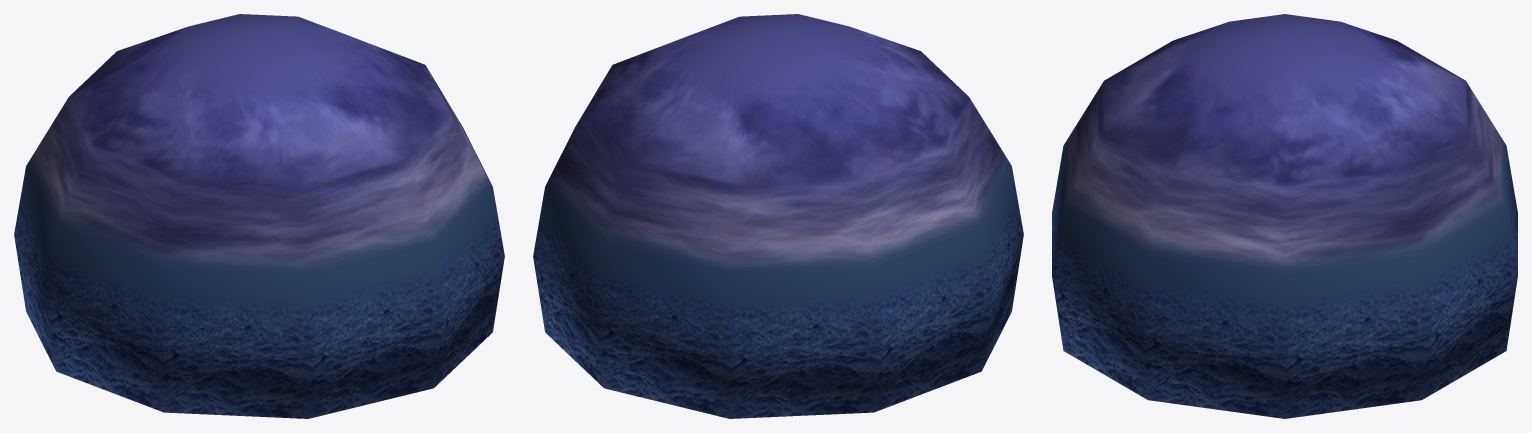
Rendered from roof.dae.
The picture shows the model from 3 angles, left to right: view 1: azimuth 30°, elevation 25°; view 2: azimuth 150°, elevation 25°; view 3: azimuth 270°, elevation 25°; orthographic projection.
Parts seen in each view (by area): view 1: vsn_mesh_2_Bt_kc01_sky01_bt_kc01_pSphere3, vsn_mesh_0_Bt_kc01_sky01_bt_kc01_pSphere3; view 2: vsn_mesh_2_Bt_kc01_sky01_bt_kc01_pSphere3, vsn_mesh_0_Bt_kc01_sky01_bt_kc01_pSphere3; view 3: vsn_mesh_2_Bt_kc01_sky01_bt_kc01_pSphere3, vsn_mesh_0_Bt_kc01_sky01_bt_kc01_pSphere3.
Boxes of the visible parts, x1=… form: vsn_mesh_2_Bt_kc01_sky01_bt_kc01_pSphere3: x1=26, y1=14, x2=492, y2=273; vsn_mesh_0_Bt_kc01_sky01_bt_kc01_pSphere3: x1=14, y1=166, x2=504, y2=418; vsn_mesh_2_Bt_kc01_sky01_bt_kc01_pSphere3: x1=545, y1=14, x2=1011, y2=273; vsn_mesh_0_Bt_kc01_sky01_bt_kc01_pSphere3: x1=533, y1=166, x2=1023, y2=418; vsn_mesh_2_Bt_kc01_sky01_bt_kc01_pSphere3: x1=1063, y1=14, x2=1506, y2=274; vsn_mesh_0_Bt_kc01_sky01_bt_kc01_pSphere3: x1=1052, y1=147, x2=1517, y2=418.
Size of the model in its own units: 4843 by 3100 by 4606.
